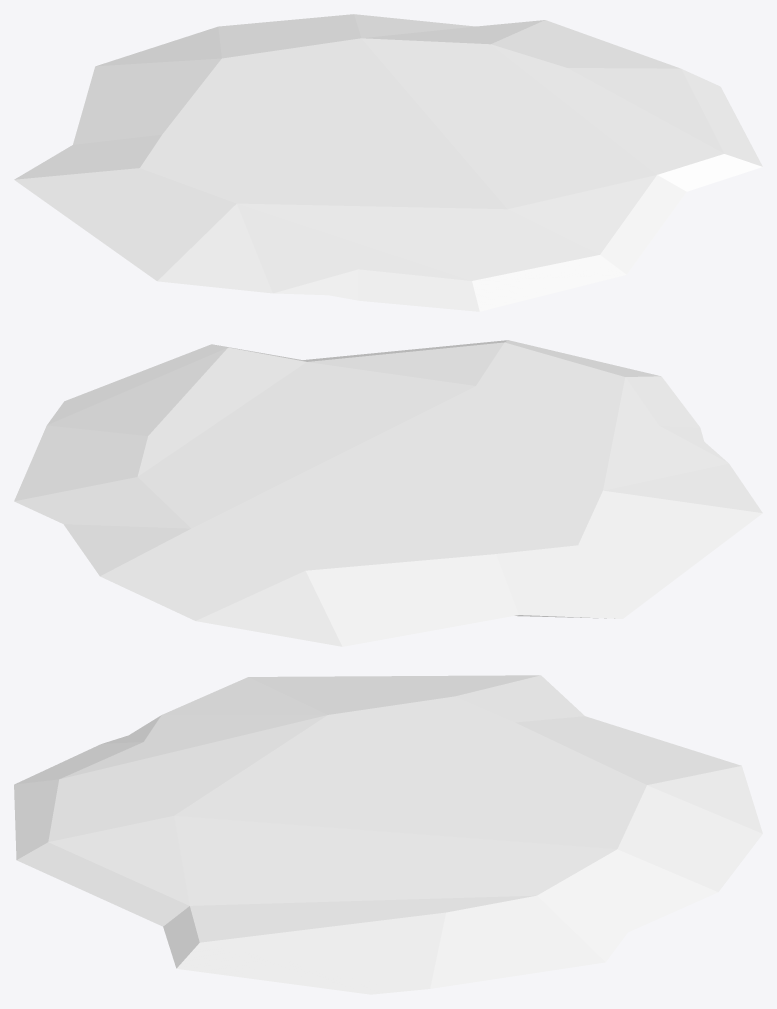
The model's file is SM_Prop_Coral_08.glb.
The picture shows the model from 3 angles, top to bottom: view 1: azimuth 30°, elevation 25°; view 2: azimuth 150°, elevation 25°; view 3: azimuth 270°, elevation 25°; orthographic projection. The views are drawn at different scales.
Parts seen in each view (by area): view 1: SM_Prop_Coral_08; view 2: SM_Prop_Coral_08; view 3: SM_Prop_Coral_08.
Part boxes in pixels (x1,y1,x2,y2): SM_Prop_Coral_08: (14, 14, 762, 311); SM_Prop_Coral_08: (14, 340, 762, 646); SM_Prop_Coral_08: (14, 675, 762, 994).
Bounding box in the file's own units: 0.6515 × 0.04 × 0.6456.
Materials: 1 (1 with a texture image).
